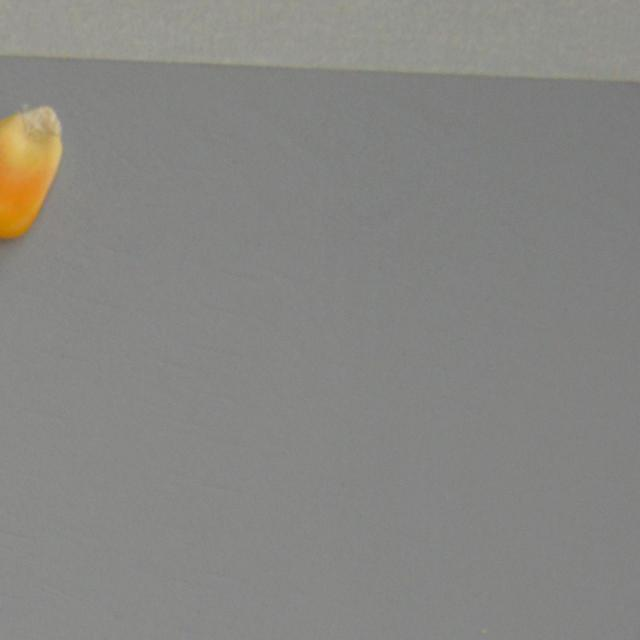entero: (0, 96, 68, 242)
